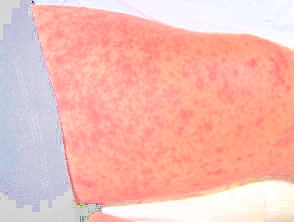SJS-TEN: (42, 3, 294, 202)
